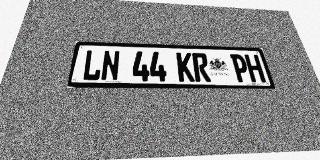4: (132, 51, 149, 81), (150, 52, 167, 81)
H: (244, 54, 266, 82)
K: (176, 52, 195, 82)
L: (81, 50, 103, 81)
N: (100, 50, 120, 81)
P: (230, 54, 251, 82)
R: (192, 53, 211, 82)
